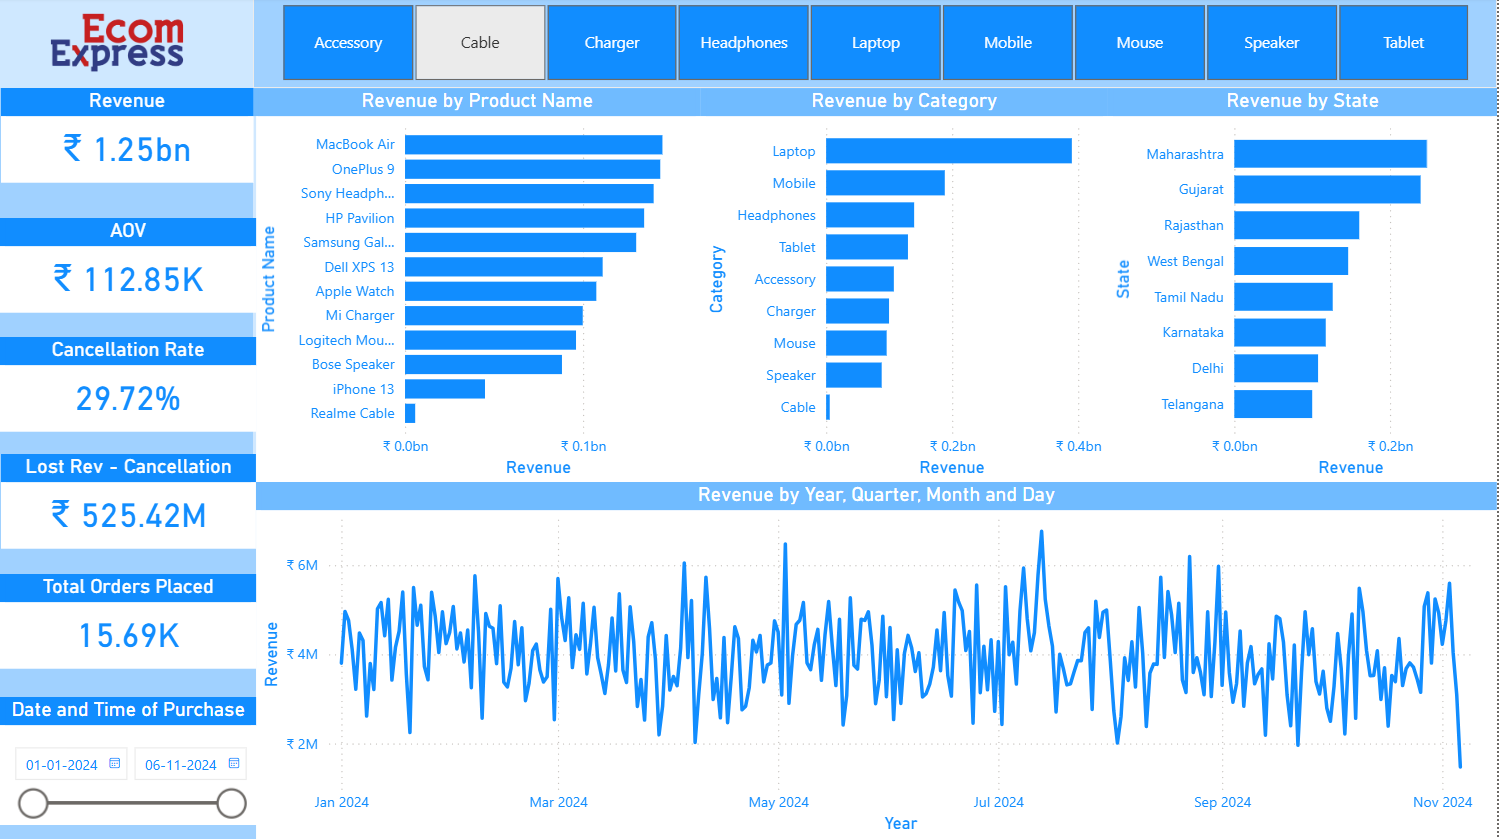

The dashboard page shown, as its layout file describes it:
{"tool":"powerbi","page":{"name":"EComm Express Sales Analysis","canvas":[1280,720],"ordinal":0},"visuals":[{"type":"shape","box":[0,0,1280.1,77.8],"z":0},{"type":"image","box":[20.5,0,159,77.8],"z":1000},{"type":"shape","box":[0,77.7,219.2,642.6],"z":2000},{"type":"barChart","fields":{"Y":["Table.Revenue"],"Category":["Products.Product Name"]},"box":[216.5,77.7,383.3,337],"z":3000},{"type":"barChart","fields":{"Y":["Table.Revenue"],"Category":["Products.Category"]},"box":[599.8,77.7,347.5,337],"z":4000},{"type":"barChart","fields":{"Y":["Table.Revenue"],"Category":["Customers.State"]},"box":[947.3,77.7,332.7,337],"z":5000},{"type":"lineChart","fields":{"Category":["Orders.Date and time of purchase.Variation.Date Hierarchy.Year","Orders.Date and time of purchase.Variation.Date Hierarchy.Quarter","Orders.Date and time of purchase.Variation.Date Hierarchy.Month","Orders.Date and time of purchase.Variation.Date Hierarchy.Day"],"Y":["Table.Revenue"]},"box":[219.2,414.7,1060.8,304.7],"z":6000},{"type":"slicer","fields":{"Values":["Products.Category"]},"box":[216.5,0,1063.5,77.7],"z":7000},{"type":"card","title":"Revenue","fields":{"Values":["Table.Revenue"]},"box":[0.9,77.7,215.7,81.2],"z":8000},{"type":"card","title":"AOV","fields":{"Values":["Table.Average_Order_Value_including_Cancellations"]},"box":[0,188.6,219.2,81.2],"z":9000},{"type":"card","title":"Cancellation Rate","fields":{"Values":["Table.Cancellation Rate"]},"box":[0,290.8,219.2,81.2],"z":10000},{"type":"card","title":"Lost Rev - Cancellation","fields":{"Values":["Table.Lost_revenue_cancellations"]},"box":[0.9,391.2,218.3,81.2],"z":11000},{"type":"card","title":"Total Orders Placed","fields":{"Values":["CountNonNull(Orders.CustomerID)"]},"box":[0,493.3,219.2,81.2],"z":12000},{"type":"slicer","title":"Date and Time of Purchase","fields":{"Values":["Orders.Date and time of purchase"]},"box":[0,599,219.2,109.1],"z":13000}]}

Visuals, with their boxes in screenshot pixels (x1, y1, x2, y2), scaled from the page's 1280x720 canvas onto the 1499x839 screenshot:
shape: [0,0,1498,91]
image: [24,0,210,91]
shape: [0,91,257,838]
barChart - Table.Revenue x Products.Product Name: [254,91,702,483]
barChart - Table.Revenue x Products.Category: [702,91,1109,483]
barChart - Table.Revenue x Customers.State: [1109,91,1498,483]
lineChart - Orders.Date and time of purchase.Variation.Date Hierarchy.Year x Orders.Date and time of purchase.Variation.Date Hierarchy.Quarter: [257,483,1498,838]
slicer - Products.Category: [254,0,1498,91]
"Revenue" card: [1,91,254,185]
"AOV" card: [0,220,257,314]
"Cancellation Rate" card: [0,339,257,433]
"Lost Rev - Cancellation" card: [1,456,257,550]
"Total Orders Placed" card: [0,575,257,669]
"Date and Time of Purchase" slicer: [0,698,257,825]
